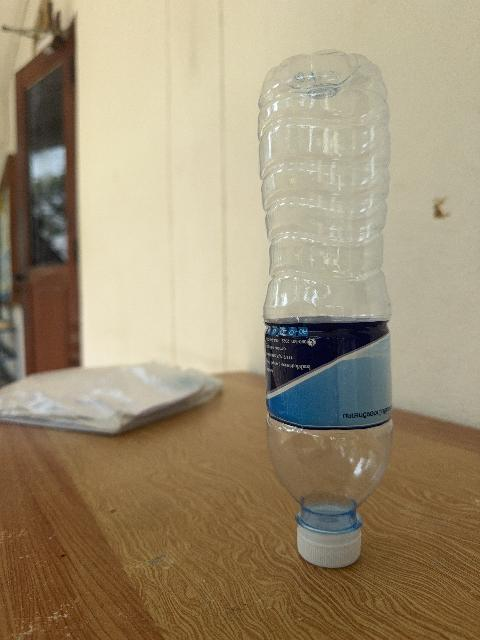bottle: (259, 51, 392, 566)
